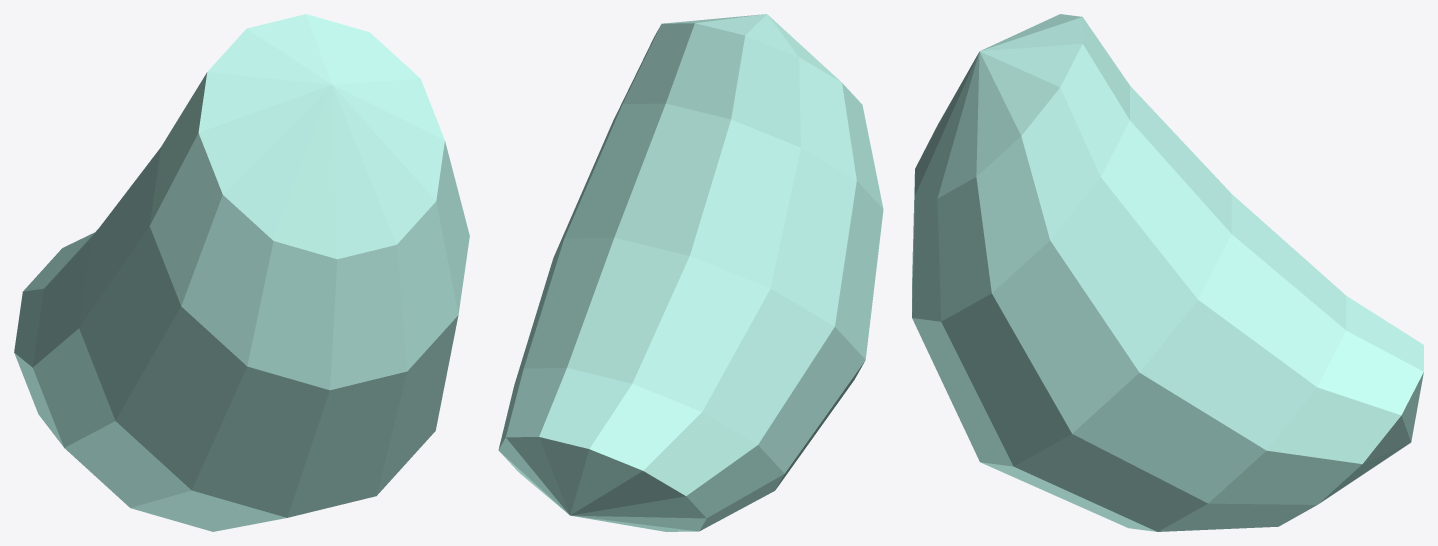
Rendered from laserbean.obj.
The picture shows the model from 3 angles, left to right: view 1: azimuth 30°, elevation 25°; view 2: azimuth 150°, elevation 25°; view 3: azimuth 270°, elevation 25°; orthographic projection. The views are drawn at different scales.
Parts seen in each view (by area): view 1: sphere; view 2: sphere; view 3: sphere.
Part boxes in pixels (box(x1,y1,x2,y2)): sphere: box(14, 14, 469, 531); sphere: box(498, 14, 883, 531); sphere: box(912, 14, 1423, 531).
Size of the model in its own units: 0.505 by 0.752 by 0.7262.
Materials: 1 (1 with a texture image).
